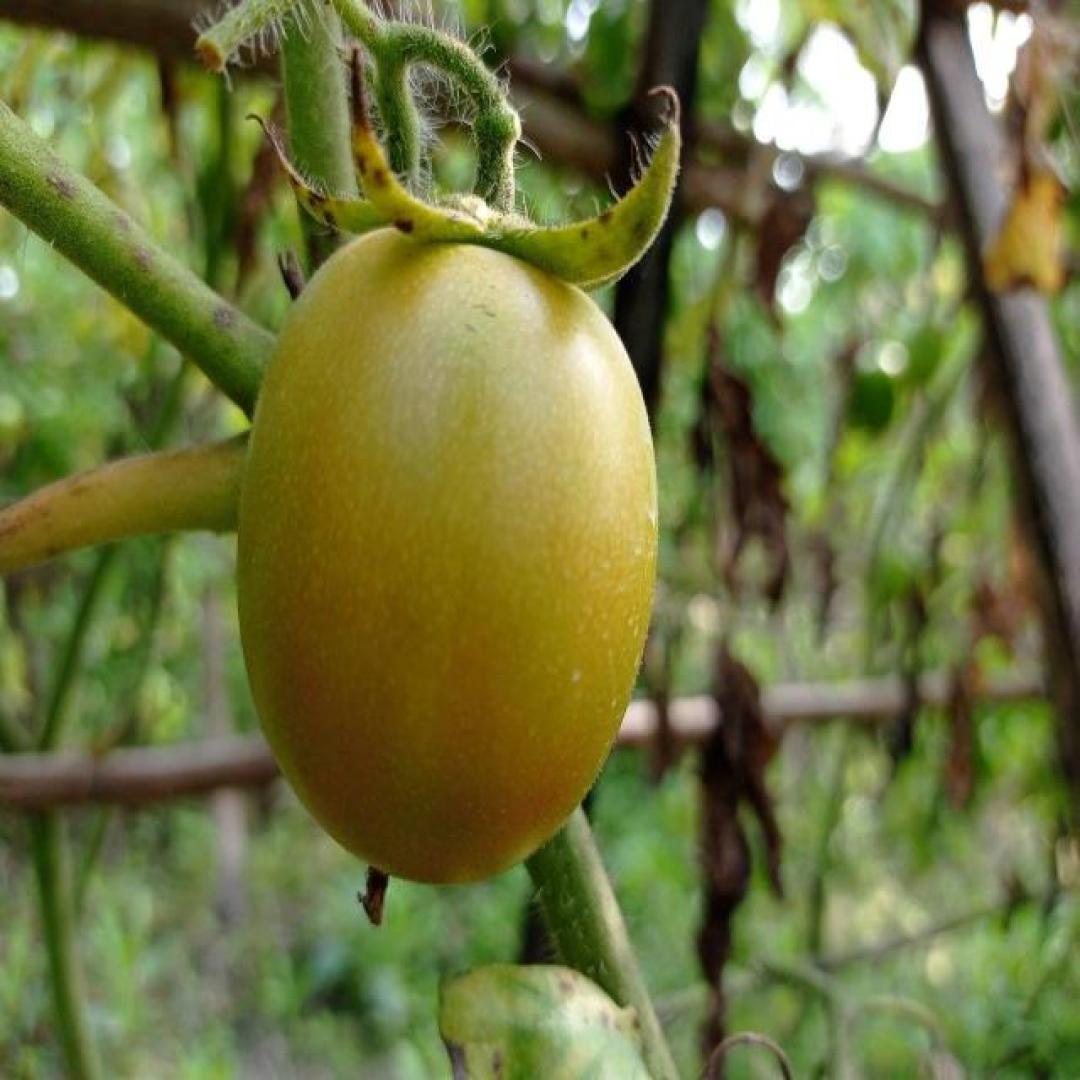setengah_matang: (235, 210, 663, 890)
